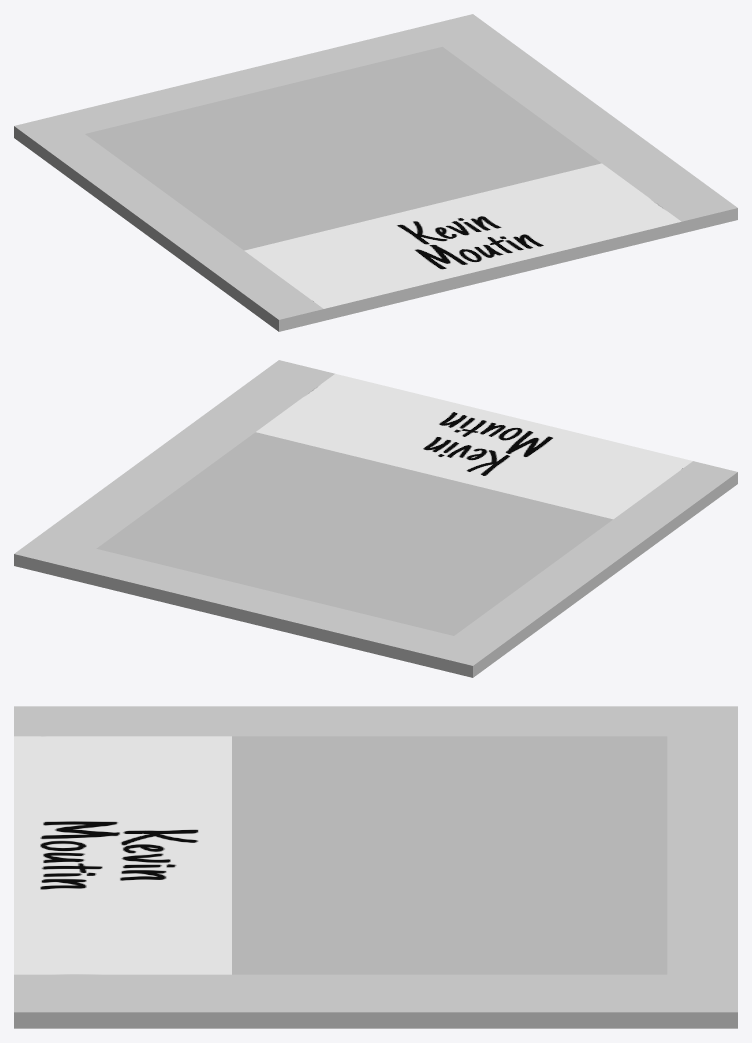
Rendered from Polaroid_KevinMoutin.fbx.
3 renders of one model, top to bottom at view 1: azimuth 30°, elevation 25°; view 2: azimuth 150°, elevation 25°; view 3: azimuth 270°, elevation 25°, orthographic. The views are drawn at different scales.
Visible parts, largest first — view 1: Plane.001; view 2: Plane.001; view 3: Plane.001.
Boxes of the visible parts, box(x1,y1,x2,y2) form: Plane.001: box(14, 14, 737, 331); Plane.001: box(14, 360, 737, 677); Plane.001: box(14, 706, 737, 1028).
Size of the model in its own units: 400 by 10 by 400.
